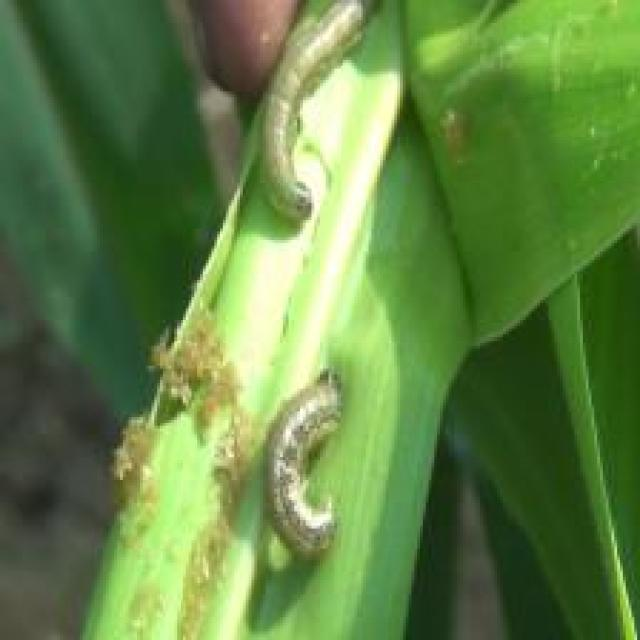Plaga: (262, 1, 399, 232), (257, 355, 354, 561)
